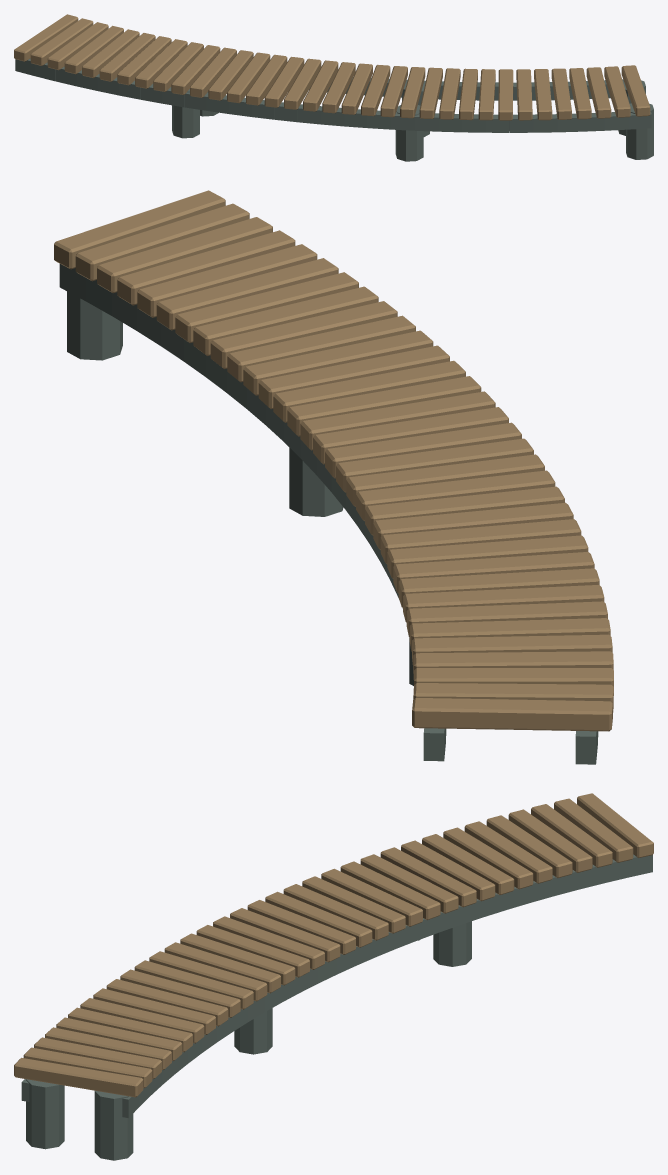
The model's file is open_ground-component.glb.
The picture shows the model from 3 angles, top to bottom: view 1: azimuth 30°, elevation 25°; view 2: azimuth 150°, elevation 25°; view 3: azimuth 270°, elevation 25°; orthographic projection. The views are drawn at different scales.
Parts seen in each view (by area): view 1: runtime_Ground / weathered oak, runtime_Ground / slate inlay; view 2: runtime_Ground / weathered oak, runtime_Ground / slate inlay; view 3: runtime_Ground / weathered oak, runtime_Ground / slate inlay.
Boxes of the visible parts, bbox=[...] form: runtime_Ground / weathered oak: bbox=[14, 14, 650, 120]; runtime_Ground / slate inlay: bbox=[15, 58, 653, 161]; runtime_Ground / weathered oak: bbox=[54, 190, 613, 731]; runtime_Ground / slate inlay: bbox=[59, 264, 598, 764]; runtime_Ground / weathered oak: bbox=[14, 793, 653, 1097]; runtime_Ground / slate inlay: bbox=[21, 854, 652, 1160].
Size of the model in its own units: 6.09 by 0.735 by 5.63.
